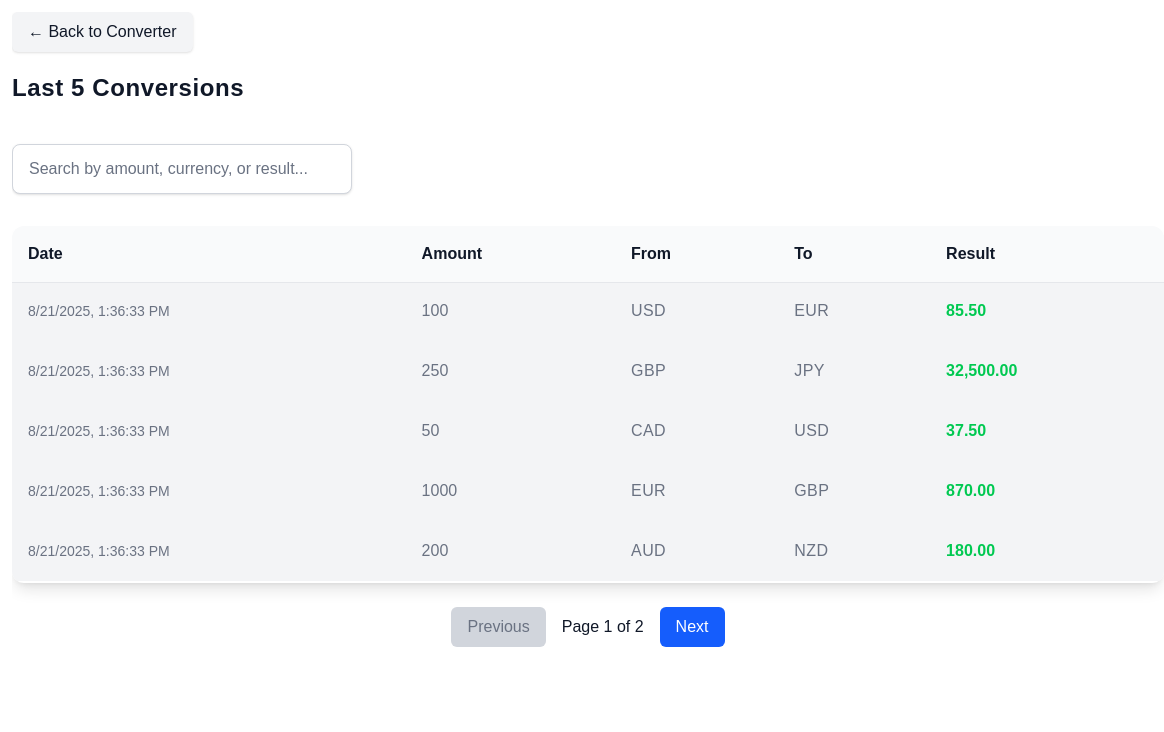
Test: TransactionHistory › navigates to previous page when Previous button is clicked
The width and height of the screenshot is (1164, 732).
// Go to page 2 first
Click the button "Next" at (692, 627), box [660,607,724,647]
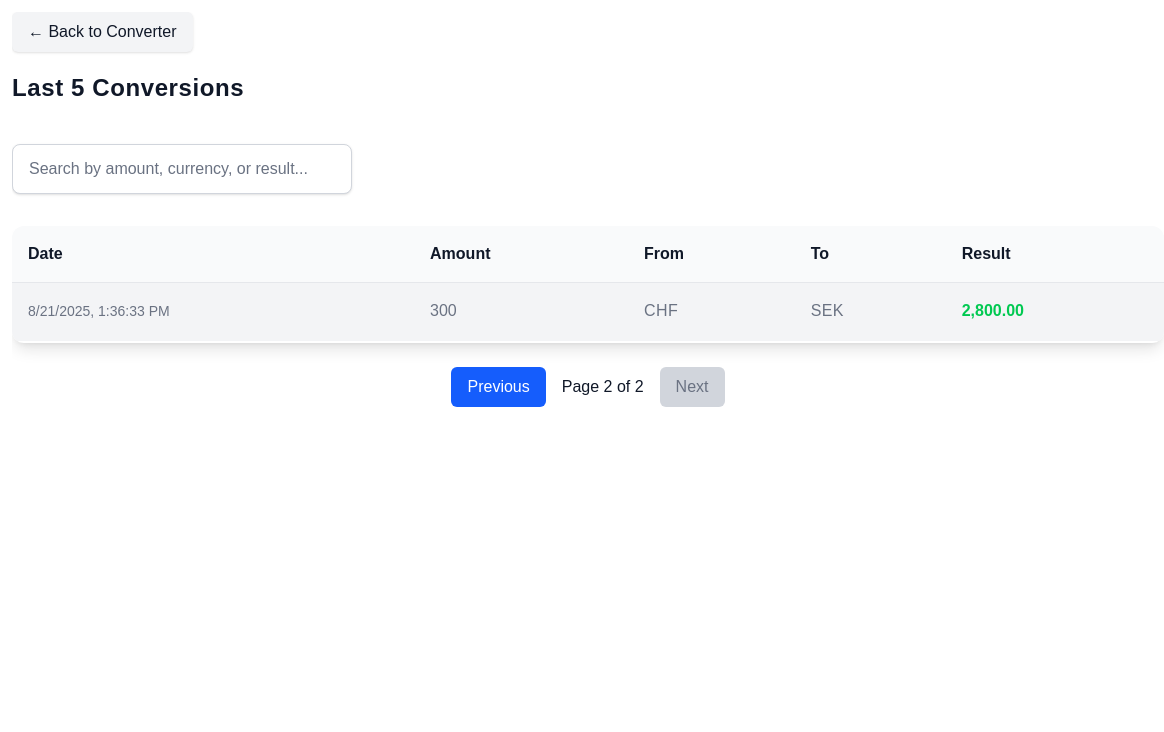
// Now test previous button
Click the button "Previous" at (499, 387), box [452,367,546,407]
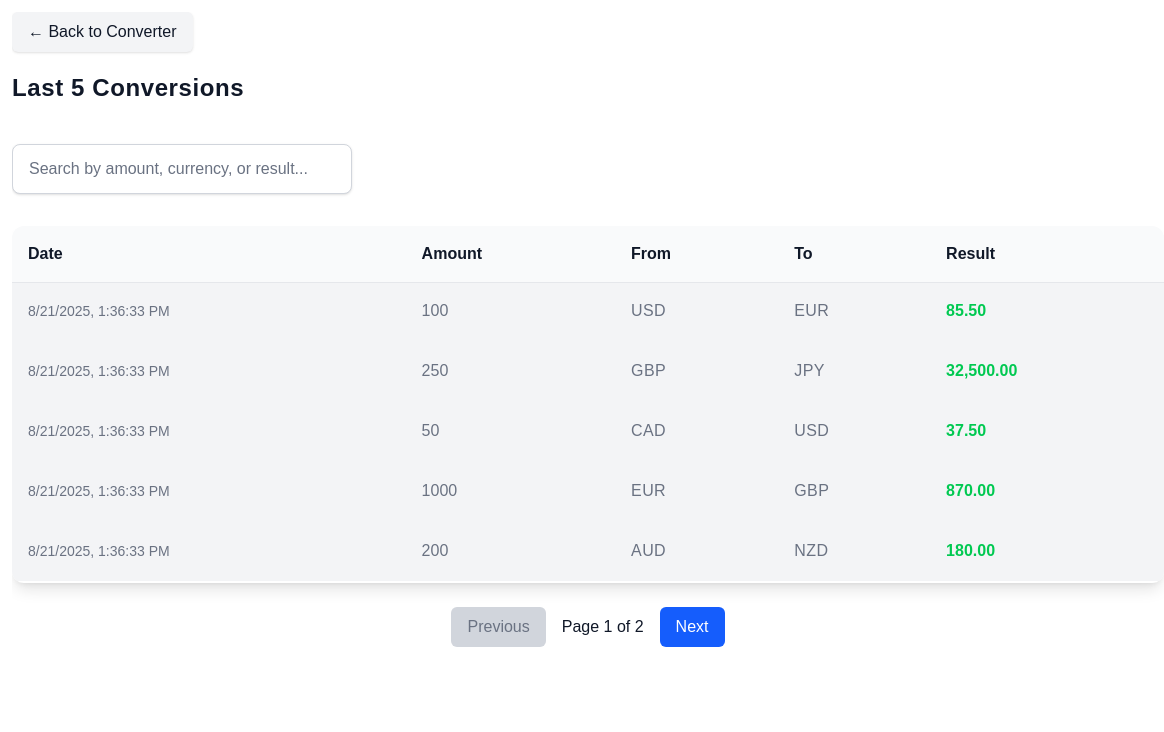
Expected: the text "Page 1 of 2" is shown, [562,615,644,639]
Expected: the button "Previous" is disabled, [452,607,546,647]
